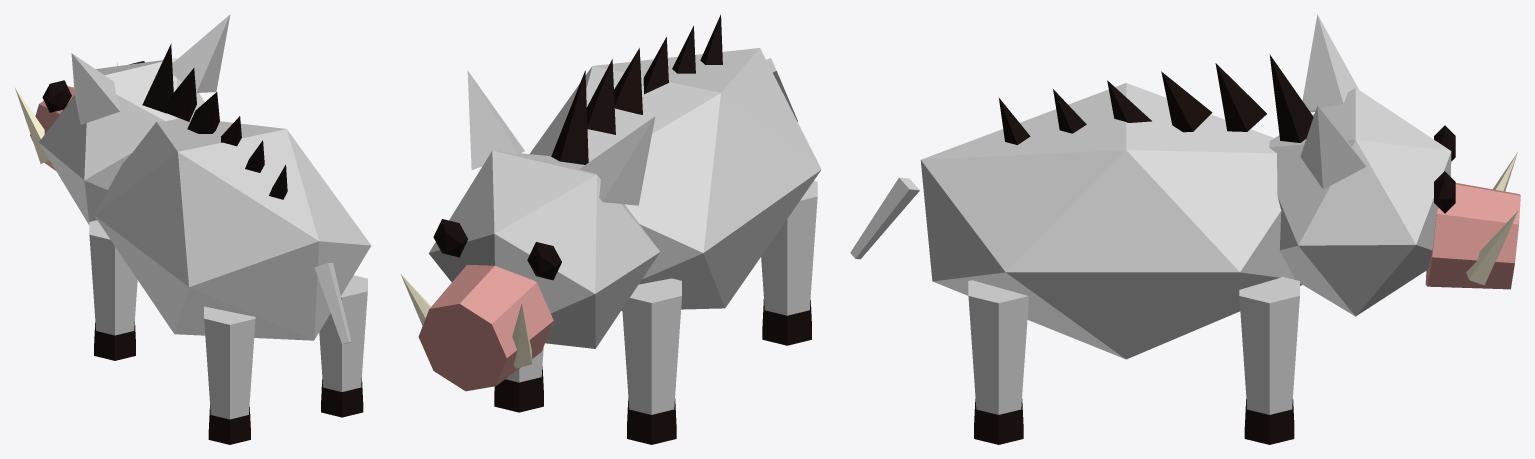
Rendered from boar.glb.
3 renders of one model, left to right at view 1: azimuth 30°, elevation 25°; view 2: azimuth 150°, elevation 25°; view 3: azimuth 270°, elevation 25°, orthographic. The views are drawn at different scales.
Visible parts, largest first — view 1: boar; view 2: boar; view 3: boar.
Boxes of the visible parts, x1,y1,x2,y2 form: boar: [14, 14, 371, 444]; boar: [400, 14, 821, 444]; boar: [850, 14, 1520, 444].
Bounding box in the file's own units: 0.7676 × 1.2 × 2.1.
